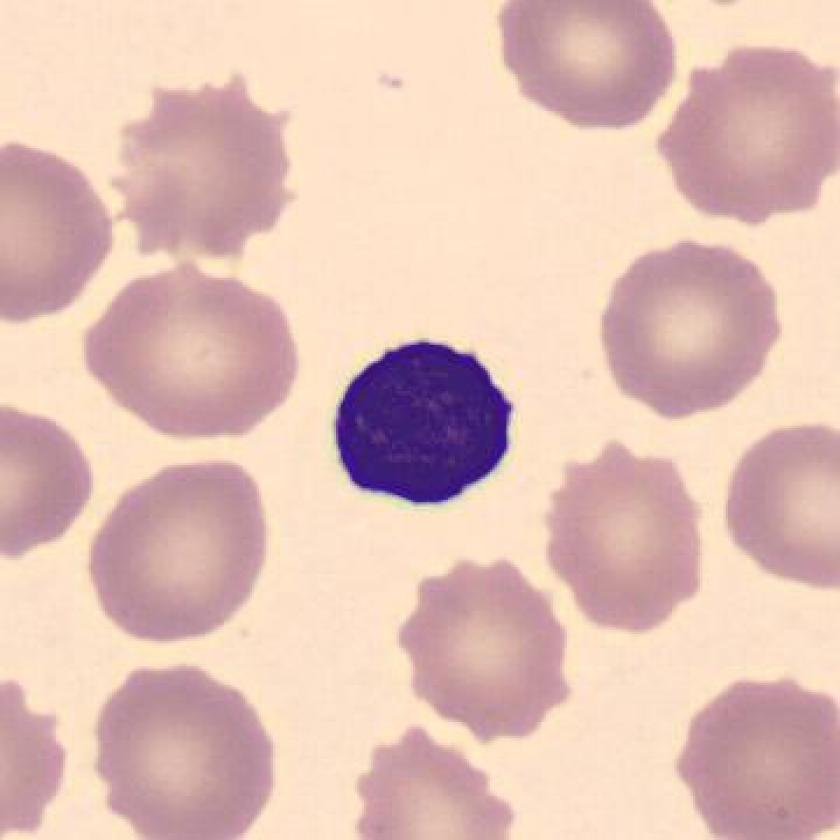lymphocyte: (316, 318, 526, 526)
